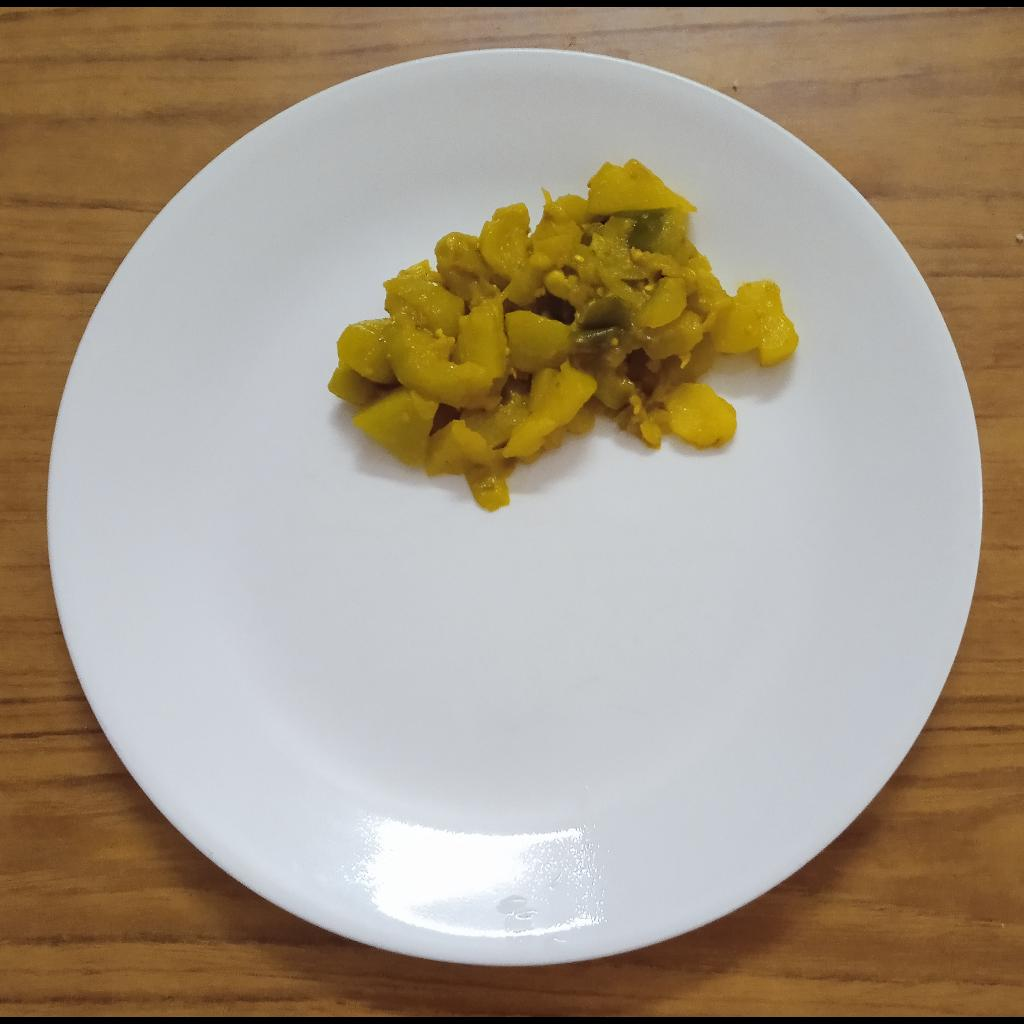kumra-vaji: (324, 158, 802, 511)
